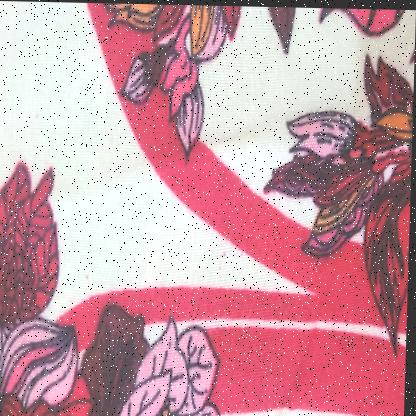spot: (218, 243, 230, 275)
